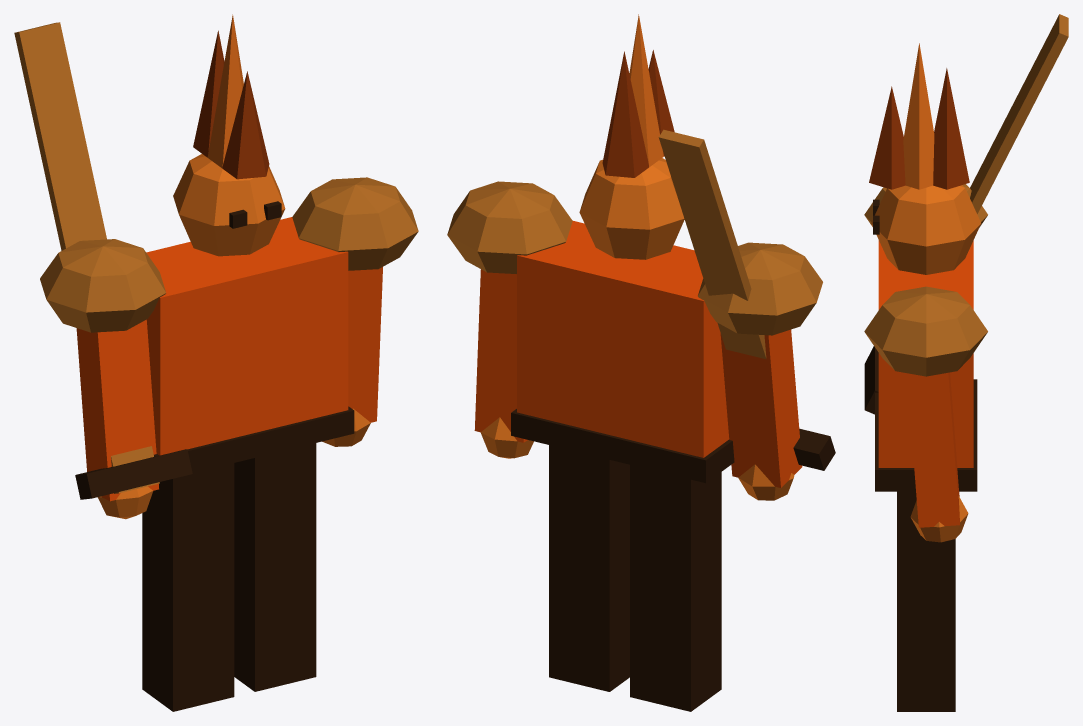
Rendered from SM_Champion_9020_Solis.glb.
The picture shows the model from 3 angles, left to right: view 1: azimuth 30°, elevation 25°; view 2: azimuth 150°, elevation 25°; view 3: azimuth 270°, elevation 25°; orthographic projection. The views are drawn at different scales.
Visible parts, largest first — view 1: SM_Champion_9020_Solis; view 2: SM_Champion_9020_Solis; view 3: SM_Champion_9020_Solis.
Part boxes in pixels (left/top/right/bottom): SM_Champion_9020_Solis: left=14, top=14, right=418, bottom=711; SM_Champion_9020_Solis: left=447, top=14, right=835, bottom=711; SM_Champion_9020_Solis: left=864, top=14, right=1068, bottom=711.
Size of the model in its own units: 1.19 by 2.08 by 0.606.
